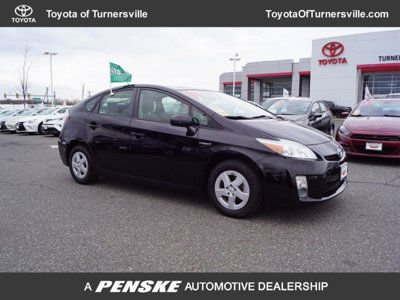Toyota Prius: (56, 81, 351, 221)
